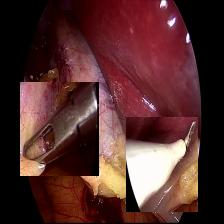Grasper: (20, 82, 99, 176)
Hook: (126, 117, 198, 212)
